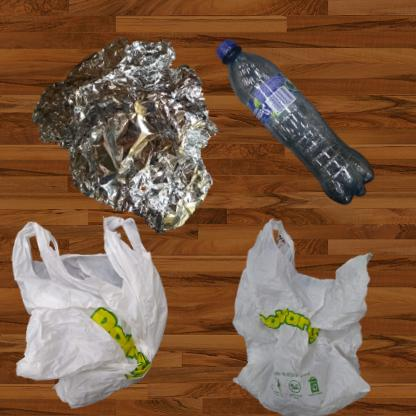aluminio: (10, 10, 256, 253)
bolsa: (213, 213, 412, 416), (10, 213, 172, 412)
botella: (213, 10, 402, 259)
